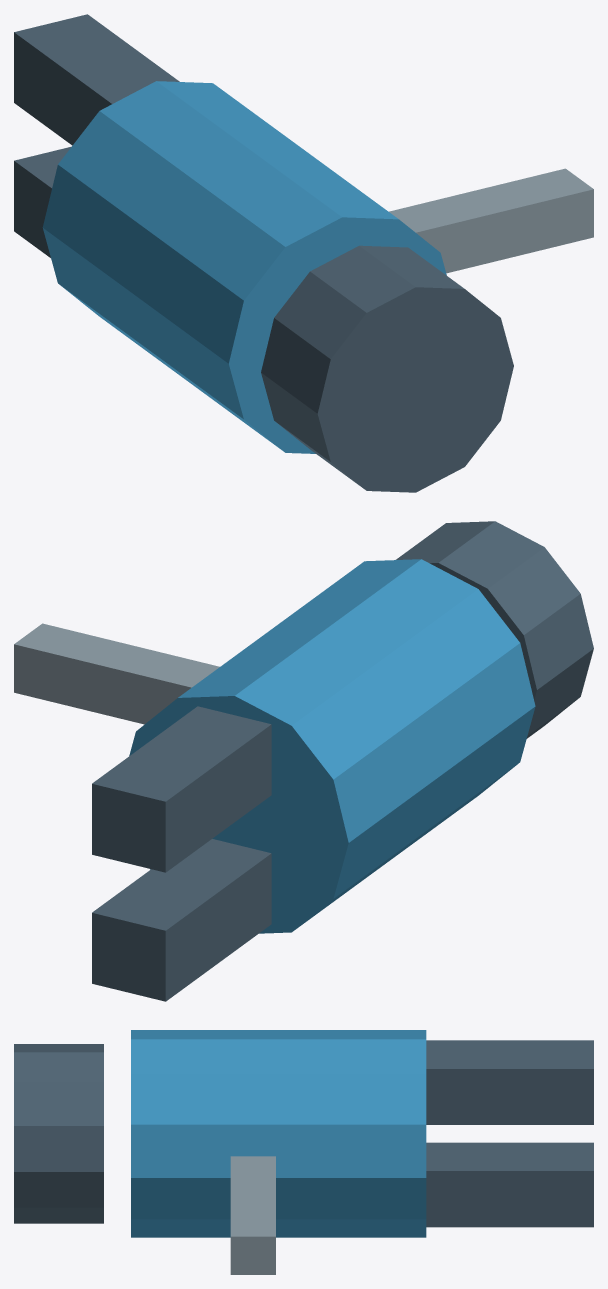
Rendered from u_engineer.glb.
3 views of the same model, one above another, from view 1: azimuth 30°, elevation 25°; view 2: azimuth 150°, elevation 25°; view 3: azimuth 270°, elevation 25° (orthographic). The views are drawn at different scales.
Parts seen in each view (by area): view 1: body, helmet, weapon, leg0.2, leg-0.2; view 2: body, leg0.2, leg-0.2, helmet, weapon; view 3: body, helmet, leg-0.2, leg0.2, weapon.
Part boxes in pixels (x1,y1,x2,y2): body: (42,81,446,453); helmet: (261,245,513,492); weapon: (389,168,593,273); leg0.2: (14,14,179,145); leg-0.2: (14,146,71,257); body: (129,559,535,933); leg0.2: (92,706,271,872); leg-0.2: (92,839,271,1001); helmet: (396,521,593,738); weapon: (14,623,219,724); body: (131,1030,426,1237); helmet: (14,1044,103,1223); leg-0.2: (426,1142,593,1227); leg0.2: (426,1040,593,1124); weapon: (230,1156,275,1274).
Bounding box in the file's own units: 1.39 × 0.74 × 2.06.
